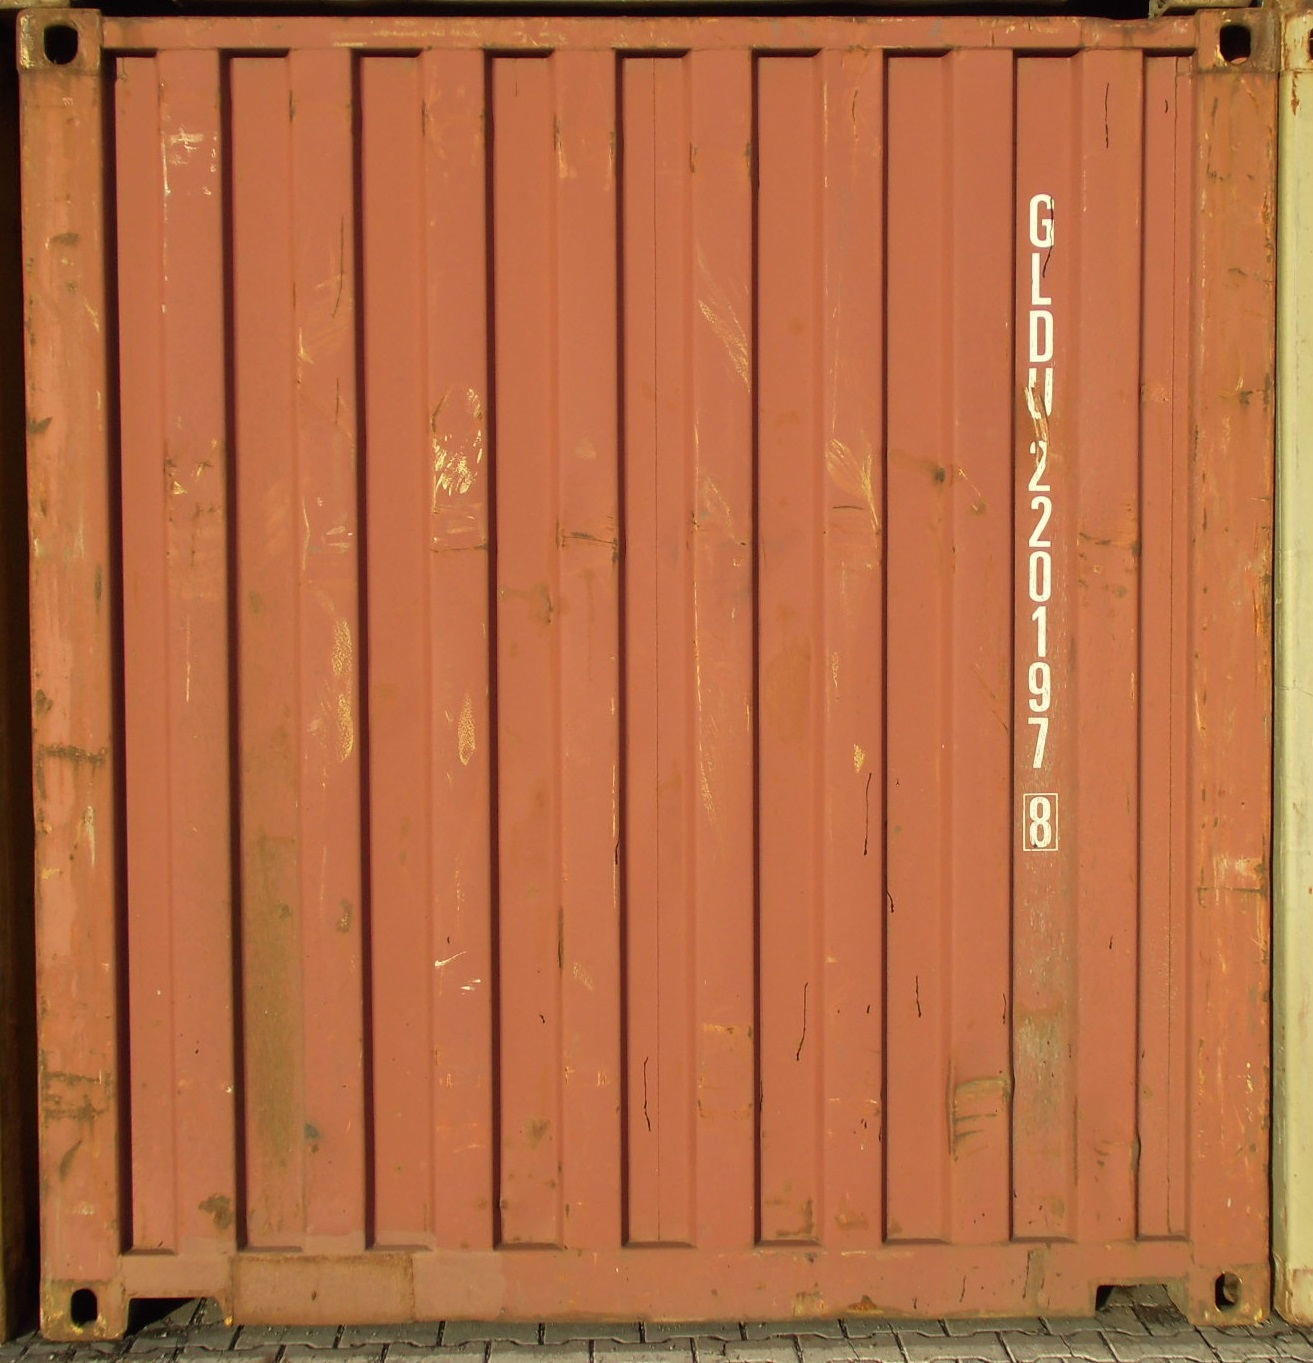container_no_door: (37, 11, 1275, 1344), (39, 13, 1276, 1345)
